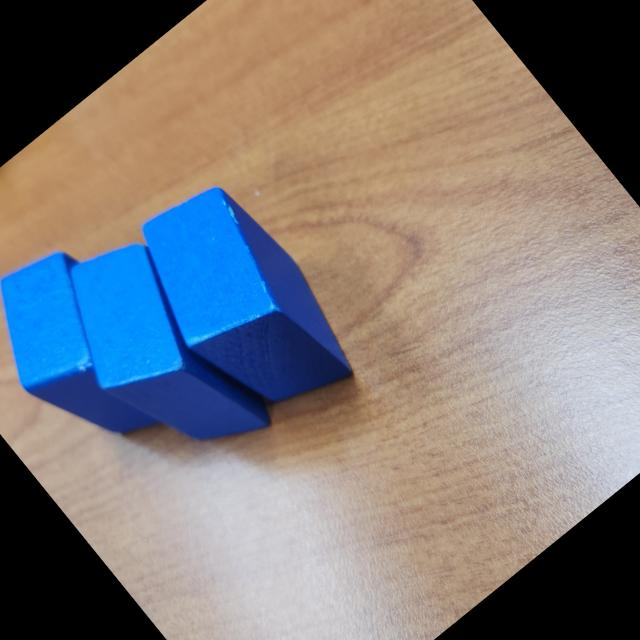blue: (110, 163, 377, 447), (30, 221, 286, 496), (0, 231, 195, 482)
